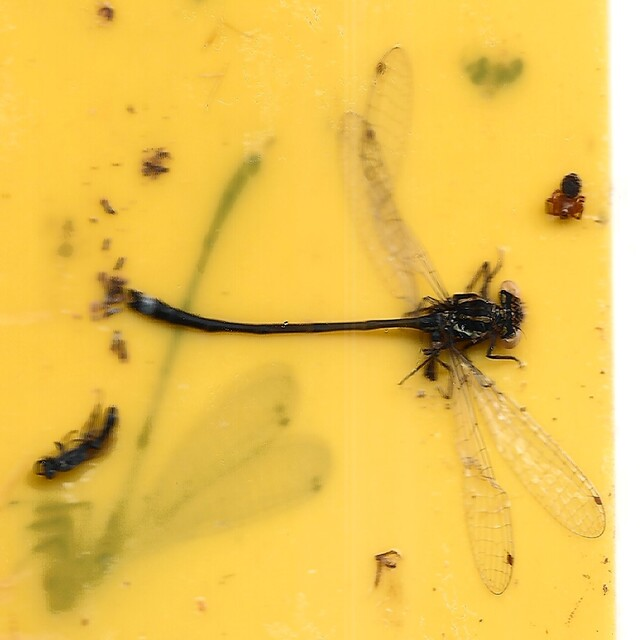Araneae: (543, 169, 586, 223)
Hymenoptera: (33, 404, 119, 482)
Odonata: (119, 46, 607, 594)
